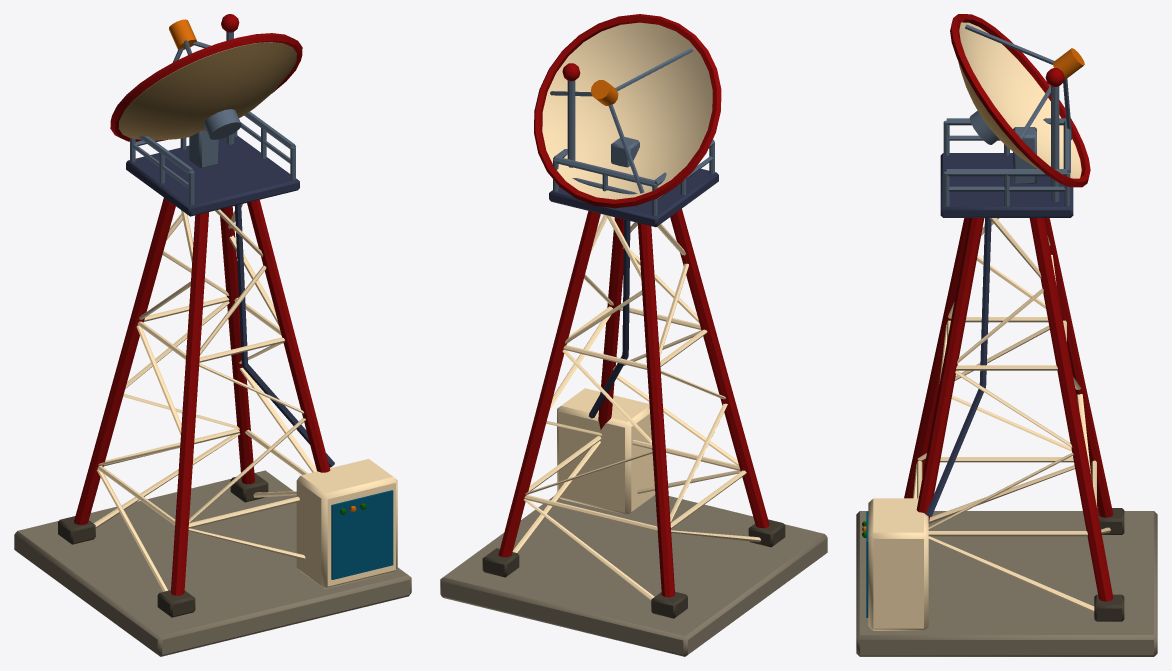
File: GpsTower.obj
3 views of the same model, side by side, from view 1: azimuth 30°, elevation 25°; view 2: azimuth 150°, elevation 25°; view 3: azimuth 270°, elevation 25° (orthographic). The views are drawn at different scales.
Visible parts, largest first — view 1: GpsTower; view 2: GpsTower; view 3: GpsTower.
Part boxes in pixels (x1,y1,x2,y2): GpsTower: (14,14,411,656); GpsTower: (440,14,827,656); GpsTower: (856,14,1157,656).
Bounding box in the file's own units: 5 × 10.42 × 5.
